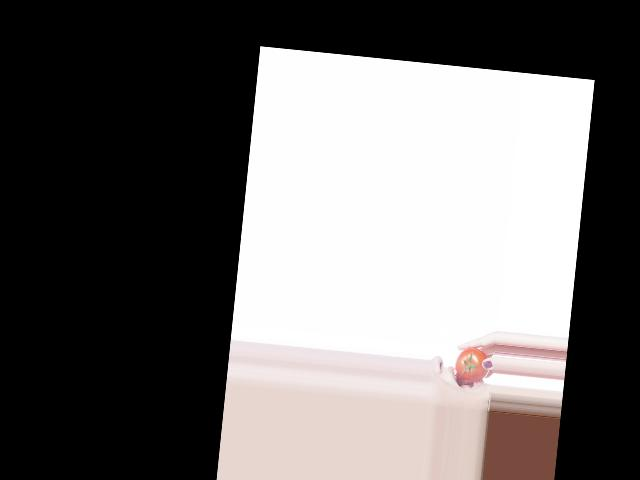tomato: (454, 345, 491, 383)
